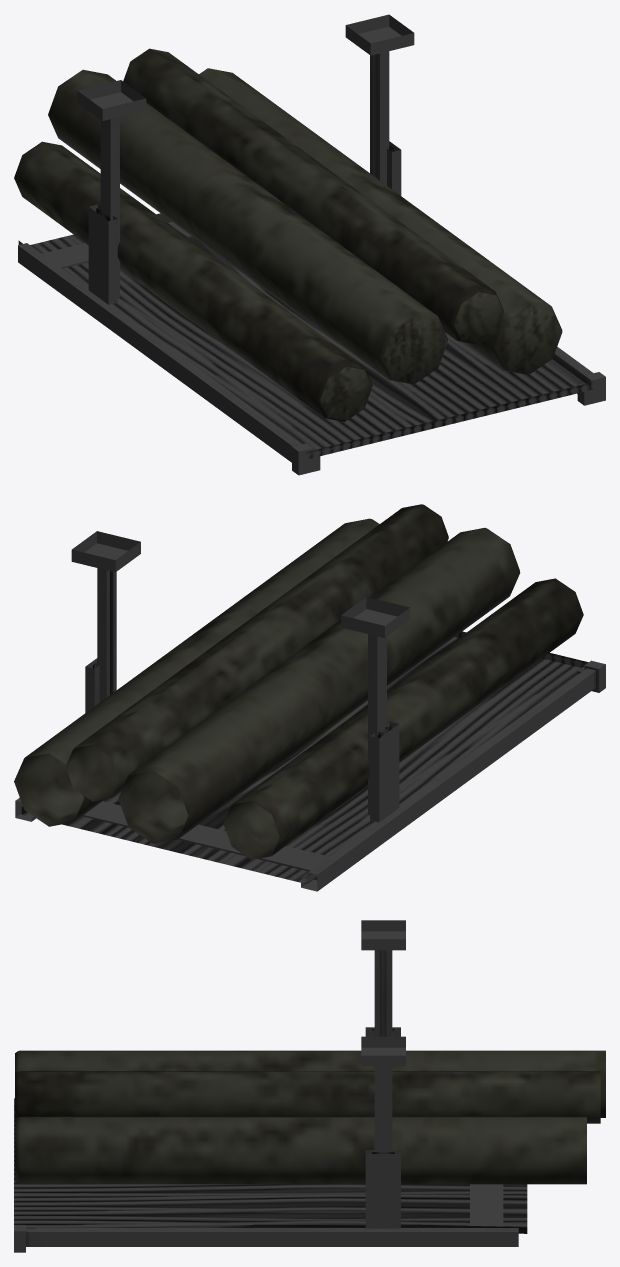
Rendered from ceiling_pipes_left_end.fbx.
3 renders of one model, top to bottom at view 1: azimuth 30°, elevation 25°; view 2: azimuth 150°, elevation 25°; view 3: azimuth 270°, elevation 25°, orthographic. The views are drawn at different scales.
Parts seen in each view (by area): view 1: ceiling_pipes_left_end; view 2: ceiling_pipes_left_end; view 3: ceiling_pipes_left_end.
Part boxes in pixels (x1=…): ceiling_pipes_left_end: x1=14, y1=14, x2=605, y2=475; ceiling_pipes_left_end: x1=14, y1=504, x2=605, y2=891; ceiling_pipes_left_end: x1=14, y1=920, x2=605, y2=1252.
Bounding box in the file's own units: 65.58 × 44.92 × 121.
